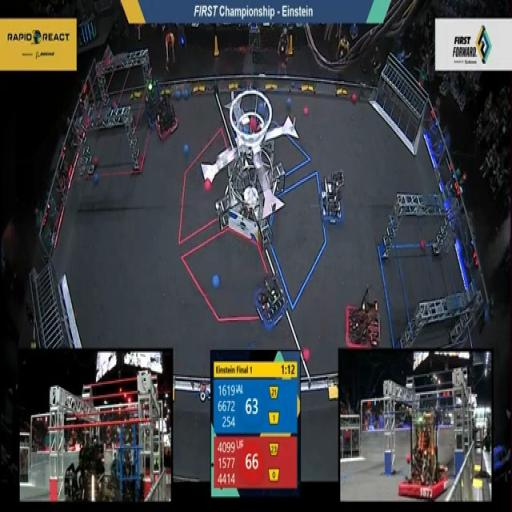robot: (343, 285, 383, 349), (251, 269, 289, 332), (318, 166, 348, 233), (154, 87, 182, 145), (142, 74, 166, 136)
